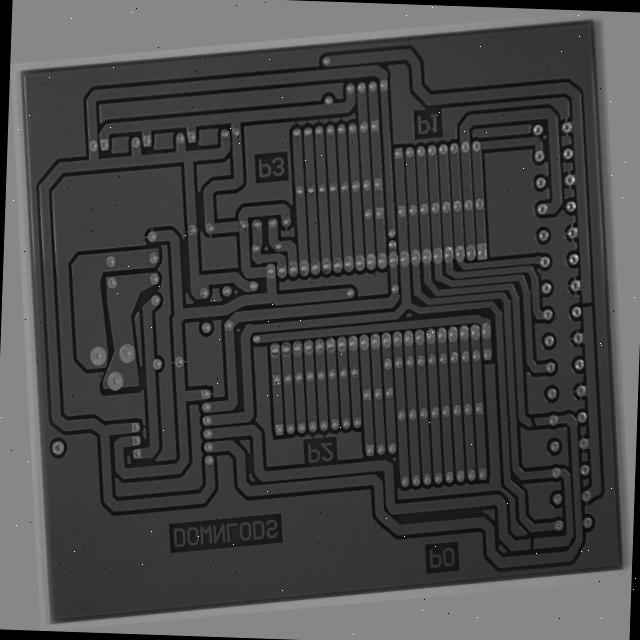open_circuit: (516, 587, 533, 609), (529, 454, 548, 470), (598, 329, 613, 349)
